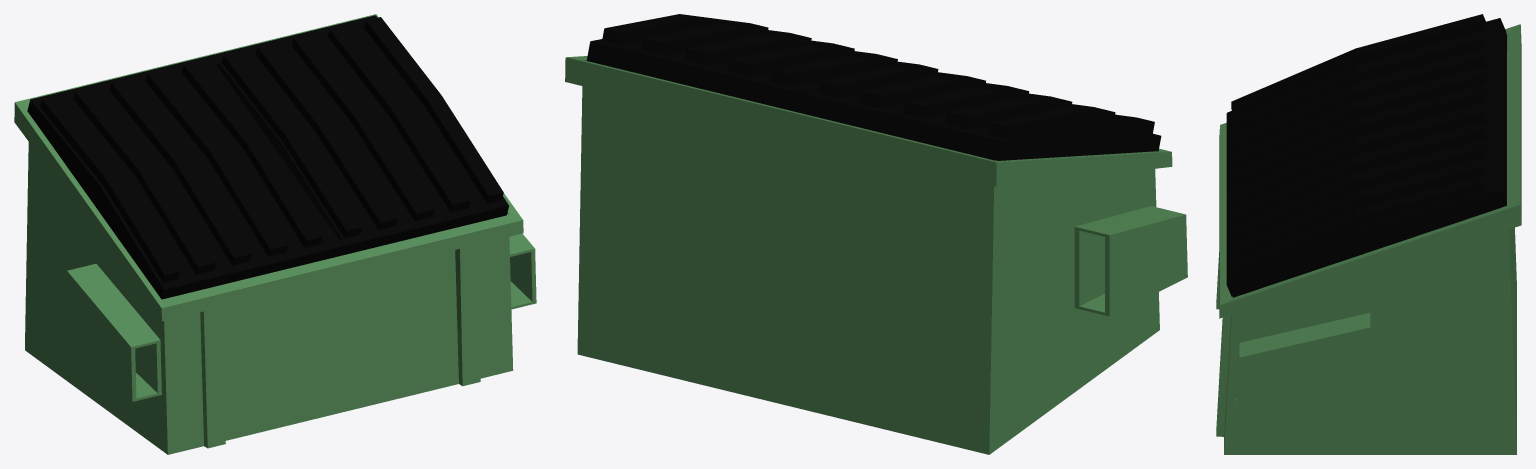
Rendered from Dumpster Openable.fbx.
The picture shows the model from 3 angles, left to right: view 1: azimuth 30°, elevation 25°; view 2: azimuth 150°, elevation 25°; view 3: azimuth 270°, elevation 25°; orthographic projection. The views are drawn at different scales.
Visible parts, largest first — view 1: Dumpster, Dumpster.001; view 2: Dumpster, Dumpster.001; view 3: Dumpster, Dumpster.001.
Part boxes in pixels (x1=…): Dumpster: x1=14, y1=14, x2=536, y2=454; Dumpster.001: x1=27, y1=15, x2=508, y2=299; Dumpster: x1=565, y1=56, x2=1187, y2=454; Dumpster.001: x1=586, y1=14, x2=1161, y2=160; Dumpster: x1=1216, y1=24, x2=1521, y2=454; Dumpster.001: x1=1226, y1=14, x2=1506, y2=297.
Size of the model in its own units: 1694 by 1053 by 1083.
